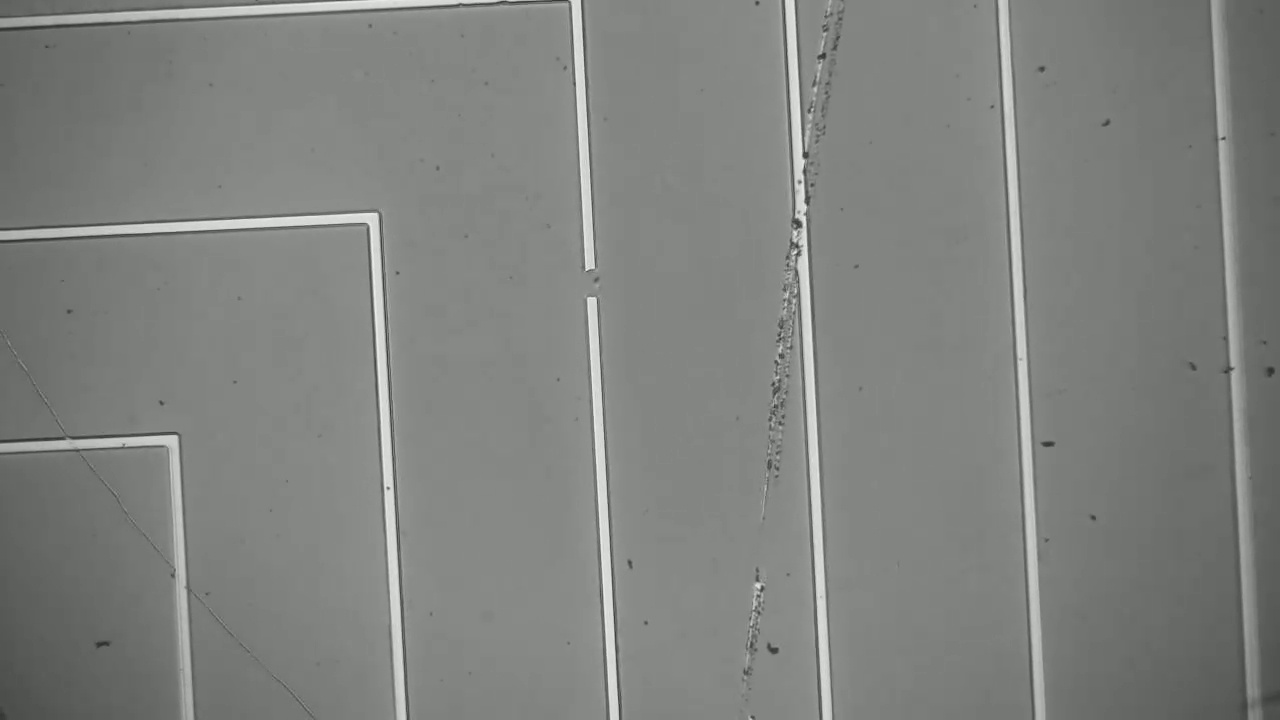open: (573, 257, 613, 319)
scratch: (8, 344, 318, 708), (721, 10, 848, 719)
